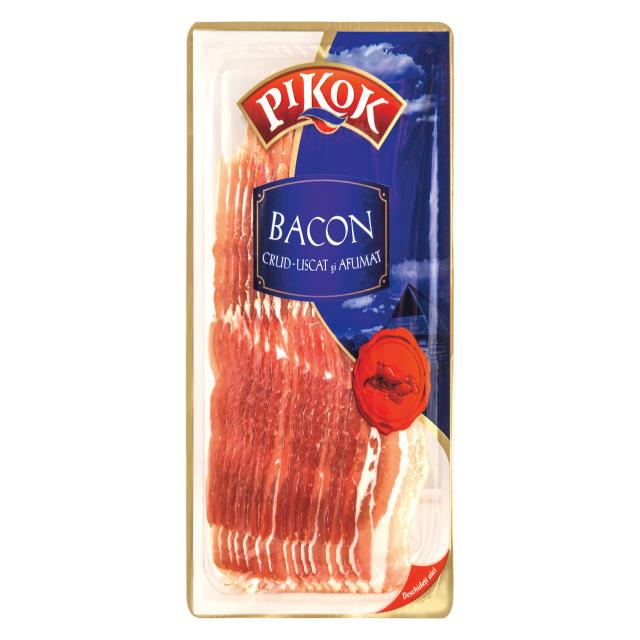bacon: (196, 38, 430, 594)
